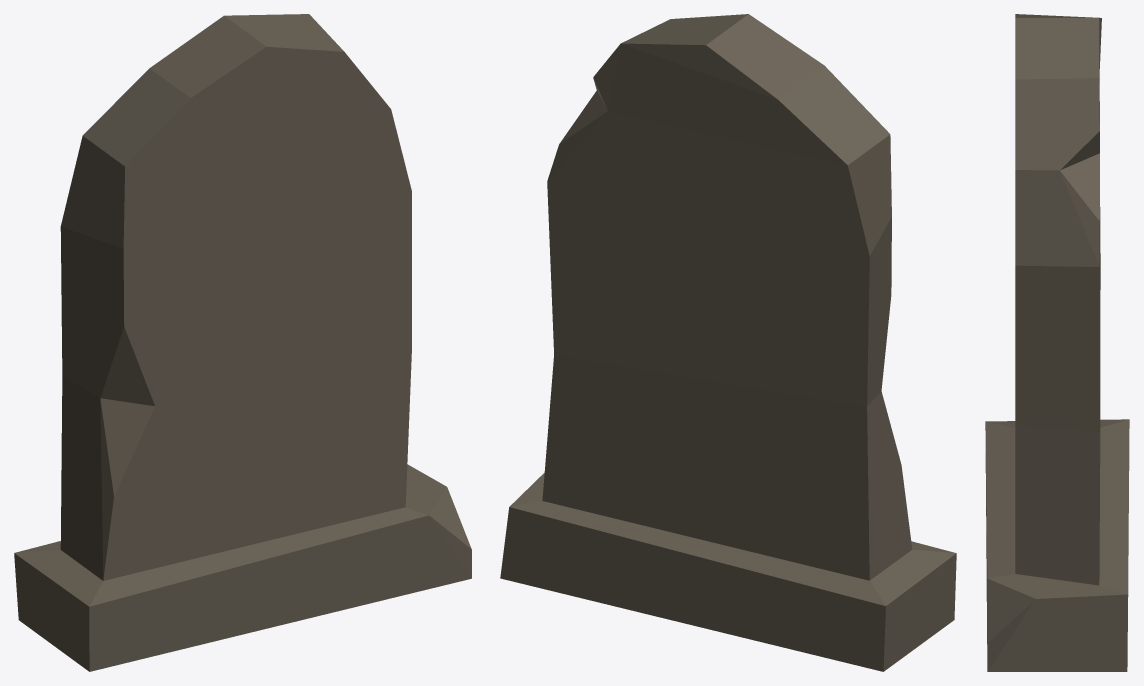
The model's file is Grave_2.fbx.
3 renders of one model, left to right at view 1: azimuth 30°, elevation 25°; view 2: azimuth 150°, elevation 25°; view 3: azimuth 270°, elevation 25°, orthographic.
Visible parts, largest first — view 1: Grave_2; view 2: Grave_2; view 3: Grave_2.
Boxes of the visible parts, x1=… form: Grave_2: x1=14, y1=14, x2=471, y2=671; Grave_2: x1=500, y1=14, x2=956, y2=671; Grave_2: x1=985, y1=14, x2=1129, y2=671.
Size of the model in its own units: 64.26 by 90.43 by 21.03.
